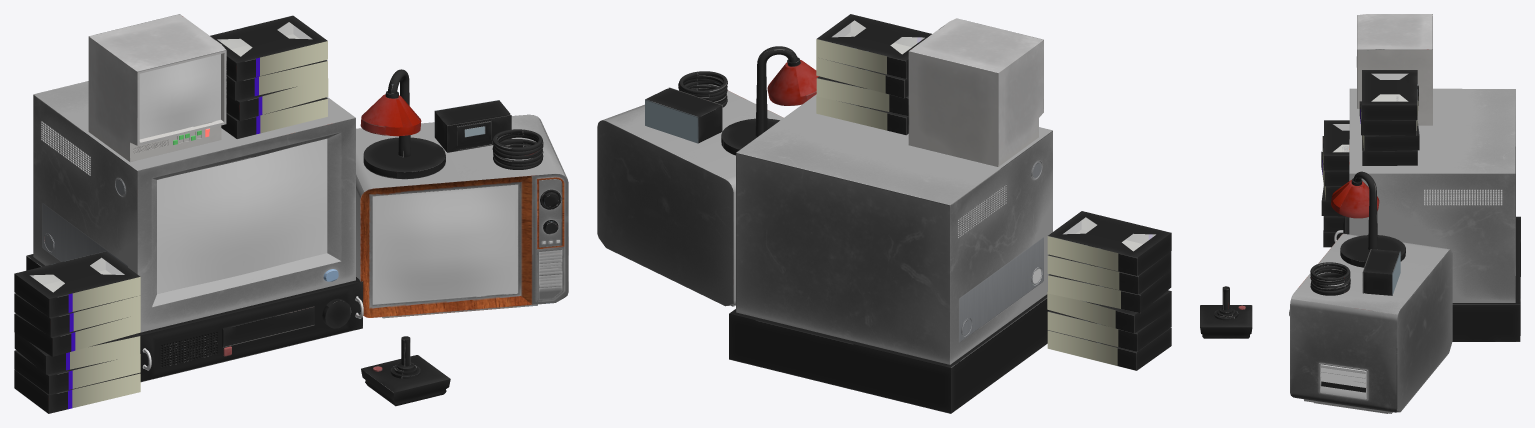
The model's file is retro_tv-scene.glb.
3 renders of one model, left to right at view 1: azimuth 30°, elevation 25°; view 2: azimuth 150°, elevation 25°; view 3: azimuth 270°, elevation 25°, orthographic. The views are drawn at different scales.
Visible parts, largest first — view 1: TV3.006, screens.001, TV3.007, TV3.008; view 2: TV3.006, TV3.007, TV3.008; view 3: TV3.006, TV3.008, TV3.007.
Part boxes in pixels (bbox=[...]): TV3.006: bbox=[26, 14, 568, 406]; screens.001: bbox=[139, 54, 515, 303]; TV3.007: bbox=[14, 251, 140, 413]; TV3.008: bbox=[210, 15, 328, 138]; TV3.006: bbox=[597, 18, 1052, 413]; TV3.007: bbox=[1047, 211, 1171, 370]; TV3.008: bbox=[816, 14, 931, 135]; TV3.006: bbox=[1200, 14, 1520, 413]; TV3.008: bbox=[1359, 70, 1419, 165]; TV3.007: bbox=[1321, 120, 1349, 247].
Size of the model in its own units: 11.82 by 6.4 by 7.64.
6 materials, 1 textured.
